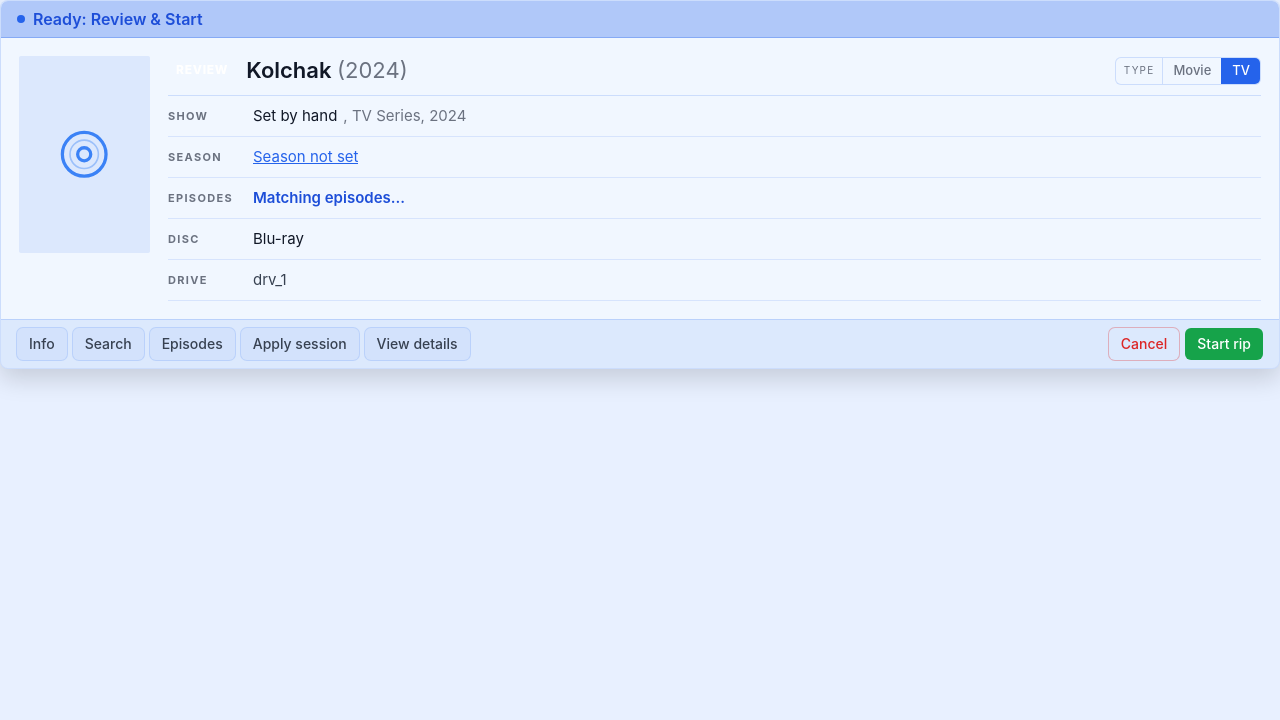
Test: DiscReviewWidget episode matching › "Season not set" opens Info with the cursor in the Season field
The width and height of the screenshot is (1280, 720).
Click the button "Season not set" at (306, 156), box [253,146,358,168]
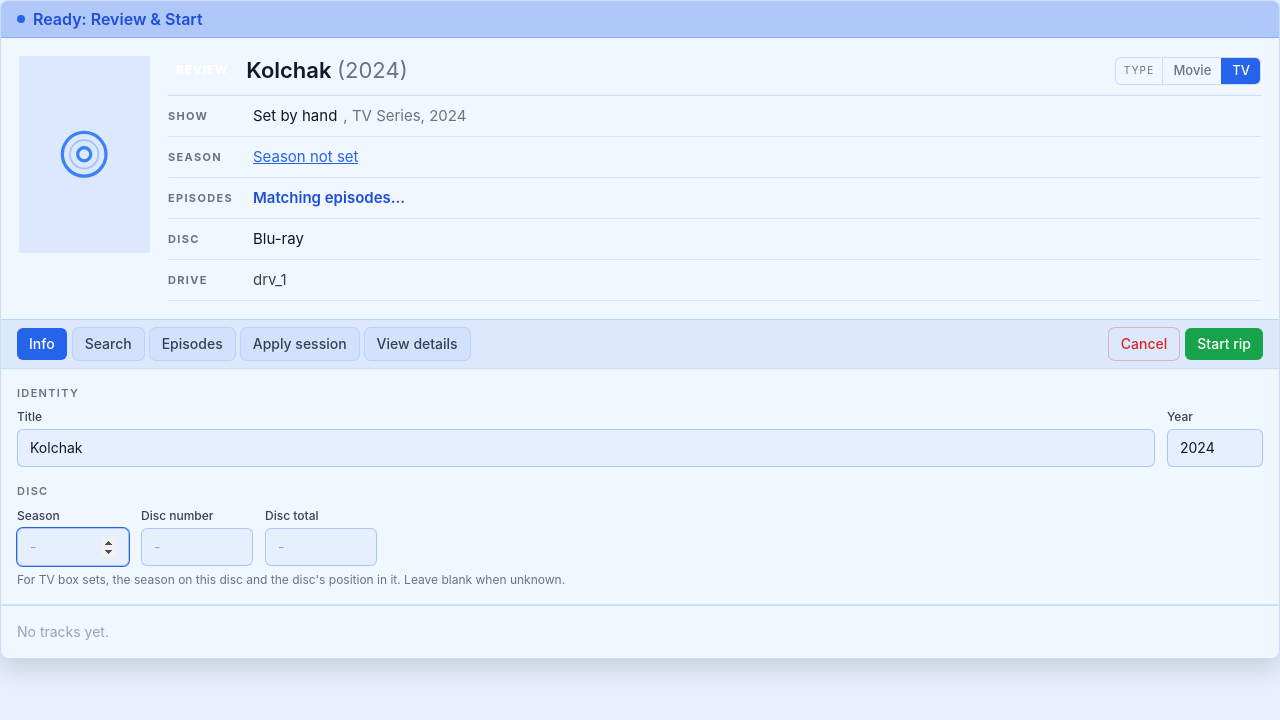
Check: the number field labelled "Season" is shown, box [17,528,129,566]
